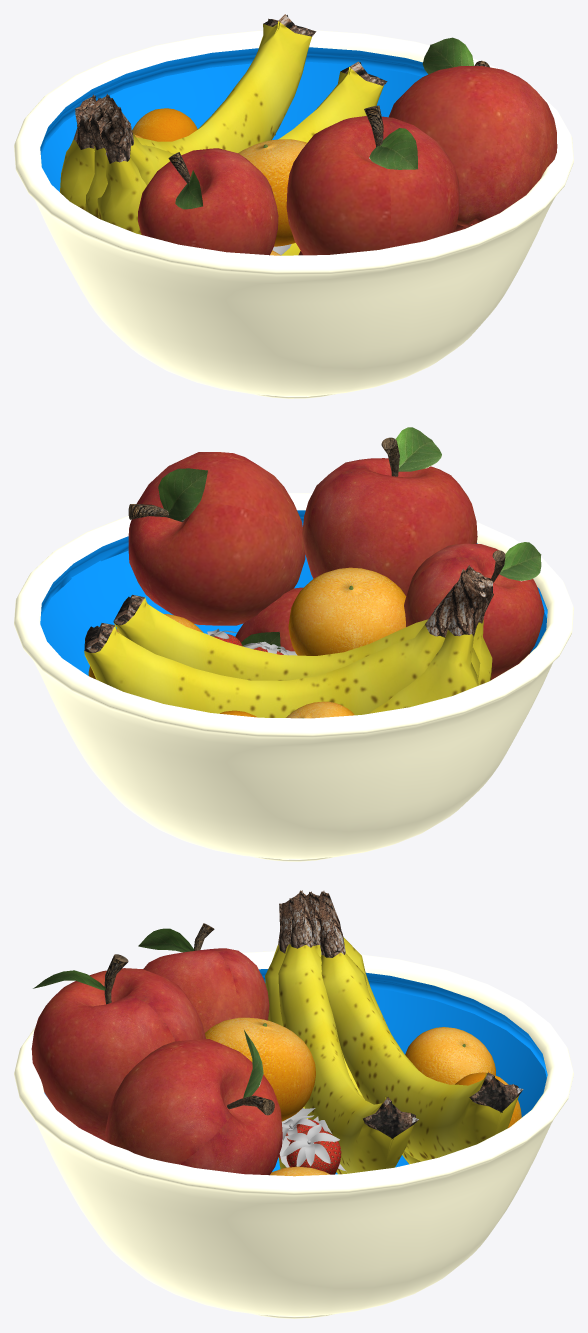
File: fruit.fbx
The picture shows the model from 3 angles, top to bottom: view 1: azimuth 30°, elevation 25°; view 2: azimuth 150°, elevation 25°; view 3: azimuth 270°, elevation 25°; orthographic projection.
Parts seen in each view (by area): view 1: Bowl (exterior), Bananas, Apple, Apple.001, Bowl (interior), Apple.003, Orange1, Orange5; view 2: Bowl (exterior), Bananas, Apple.001, Apple, Apple.003, Bowl (interior), Orange1, Apple.002, Orange4; view 3: Bowl (exterior), Bananas, Apple.001, Apple, Bowl (interior), Apple.003, Orange1, Orange4, Strawberry stem 2, Strawberry 2.
Part boxes in pixels (x1=…): Bowl (exterior): x1=14, y1=30, x2=573, y2=398; Bananas: x1=60, y1=14, x2=387, y2=255; Apple: x1=286, y1=105, x2=459, y2=255; Apple.001: x1=389, y1=37, x2=557, y2=231; Bowl (interior): x1=40, y1=47, x2=427, y2=191; Apple.003: x1=138, y1=148, x2=278, y2=255; Orange1: x1=238, y1=139, x2=306, y2=246; Orange5: x1=132, y1=108, x2=197, y2=141; Bowl (exterior): x1=14, y1=493, x2=573, y2=861; Bananas: x1=84, y1=565, x2=493, y2=717; Apple.001: x1=128, y1=452, x2=305, y2=625; Apple: x1=302, y1=427, x2=477, y2=595; Apple.003: x1=404, y1=542, x2=544, y2=679; Bowl (interior): x1=40, y1=510, x2=547, y2=675; Orange1: x1=288, y1=567, x2=406, y2=655; Apple.002: x1=235, y1=587, x2=303, y2=651; Orange4: x1=286, y1=701, x2=354, y2=718; Bowl (exterior): x1=14, y1=951, x2=573, y2=1318; Bananas: x1=265, y1=890, x2=523, y2=1174; Apple.001: x1=105, y1=1030, x2=282, y2=1175; Apple: x1=31, y1=954, x2=205, y2=1141; Bowl (interior): x1=44, y1=969, x2=547, y2=1174; Apple.003: x1=138, y1=923, x2=269, y2=1032; Orange1: x1=205, y1=1017, x2=315, y2=1121; Orange4: x1=405, y1=1027, x2=495, y2=1084; Strawberry stem 2: x1=281, y1=1124, x2=339, y2=1166; Strawberry 2: x1=286, y1=1130, x2=341, y2=1174.
Bounding box in the file's own units: 1.77 × 1.13 × 1.77.
